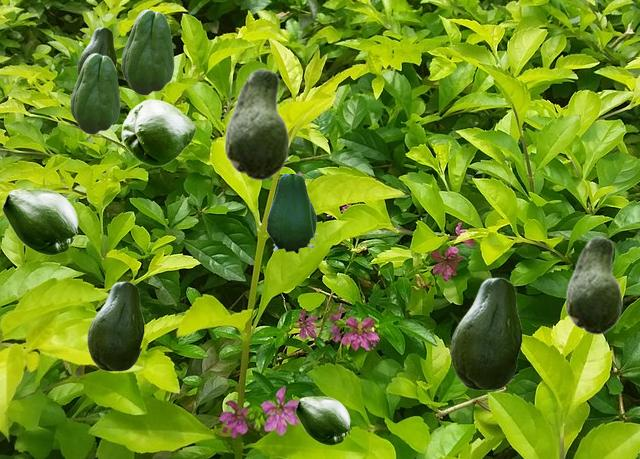sayote: (450, 277, 521, 389), (224, 68, 288, 180), (565, 236, 621, 334), (87, 281, 143, 370), (2, 188, 77, 254), (121, 99, 195, 165), (121, 9, 173, 94), (266, 174, 317, 254), (70, 53, 119, 133), (295, 396, 349, 444), (77, 27, 115, 76)
